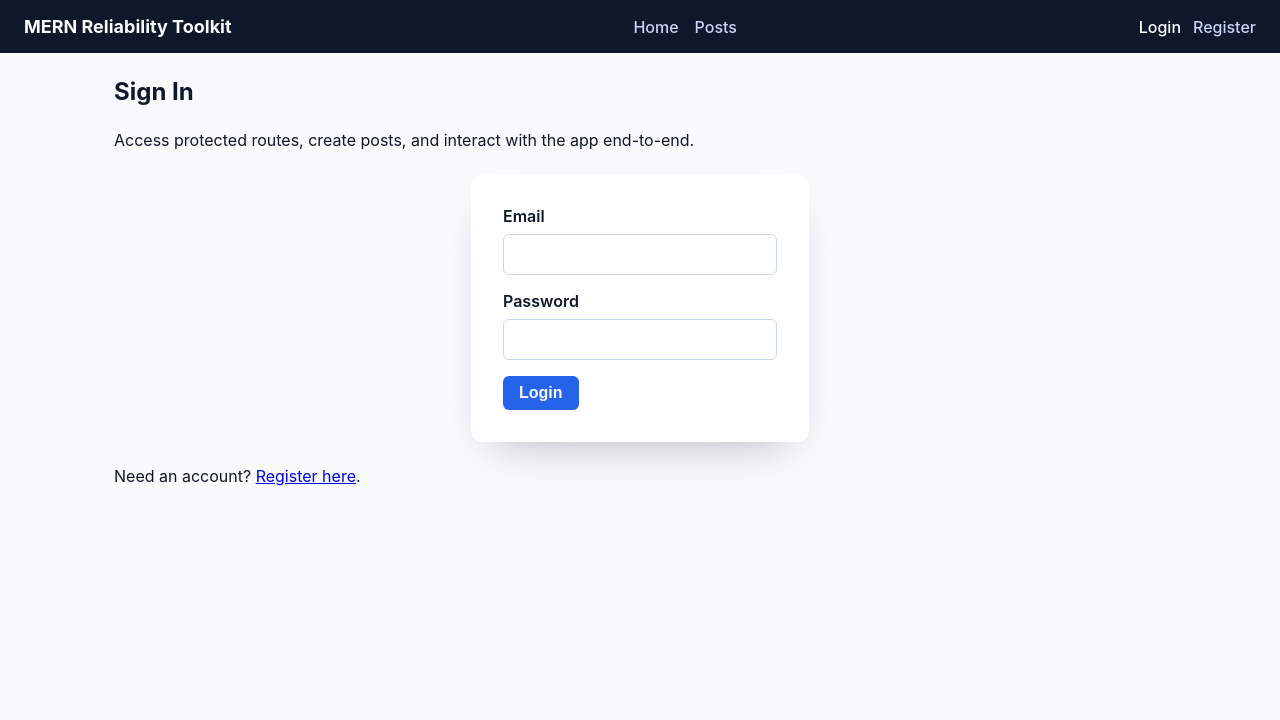
Test case: Login Flow E2E Tests › should show validation errors for weak password
This screenshot has width=1280, height=720.
Step 1. Type "test@example.com" into the field named "email" → (640, 255), box [503,234,777,275]
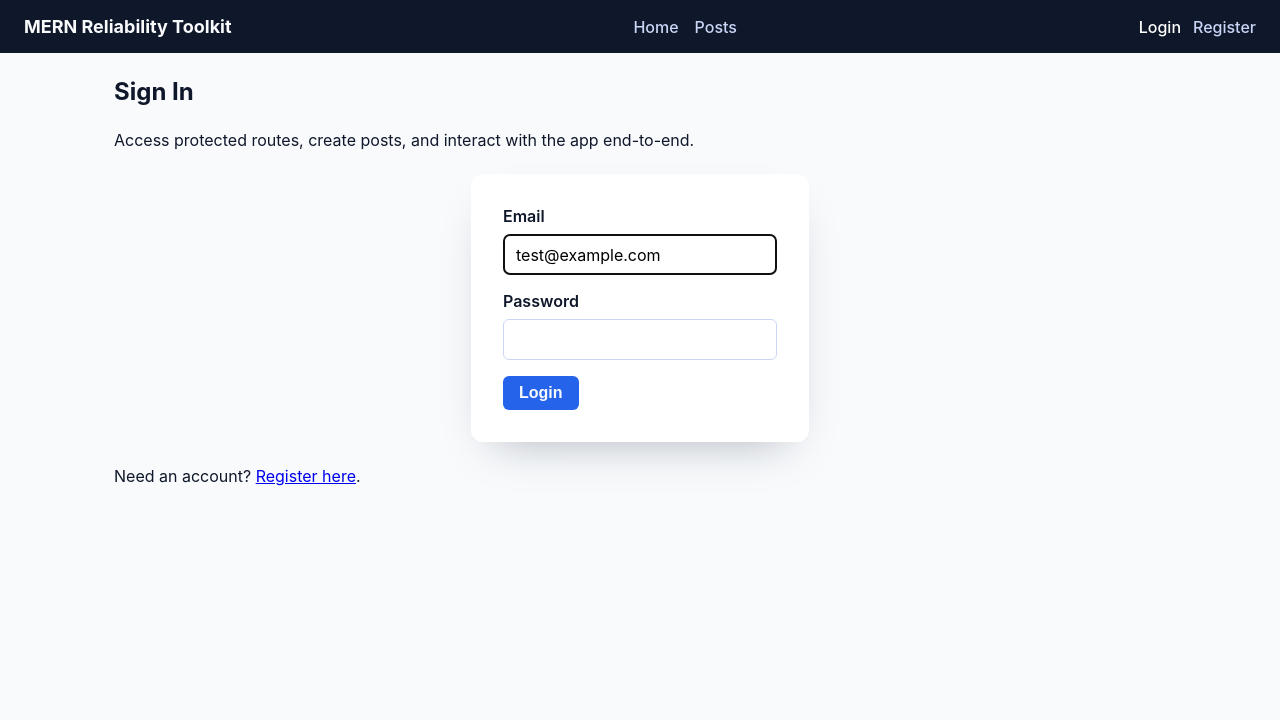
Step 2. Type "short" into the password field named "password" → (640, 340), box [503,319,777,360]
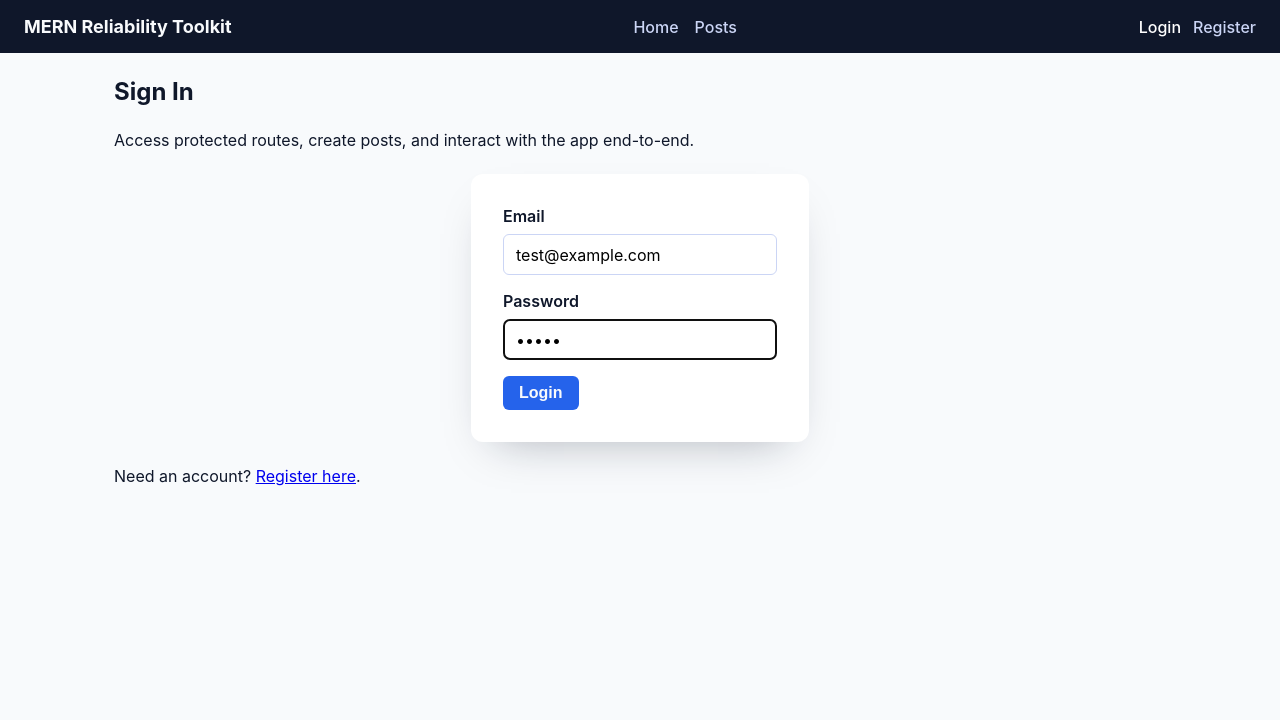
Step 3. Click the submit button → (541, 393), box [503,376,579,410]
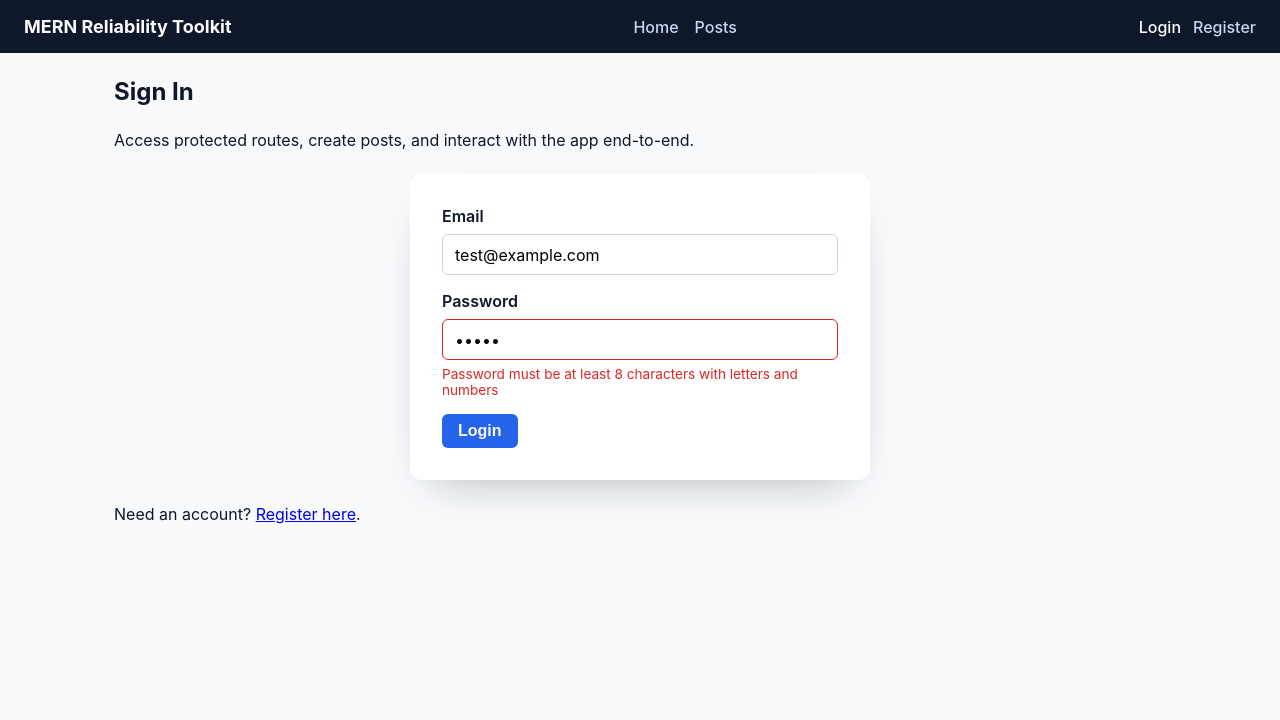
Expected: the text "Password must be at least 8 characters" is shown, [442,366,798,398]
